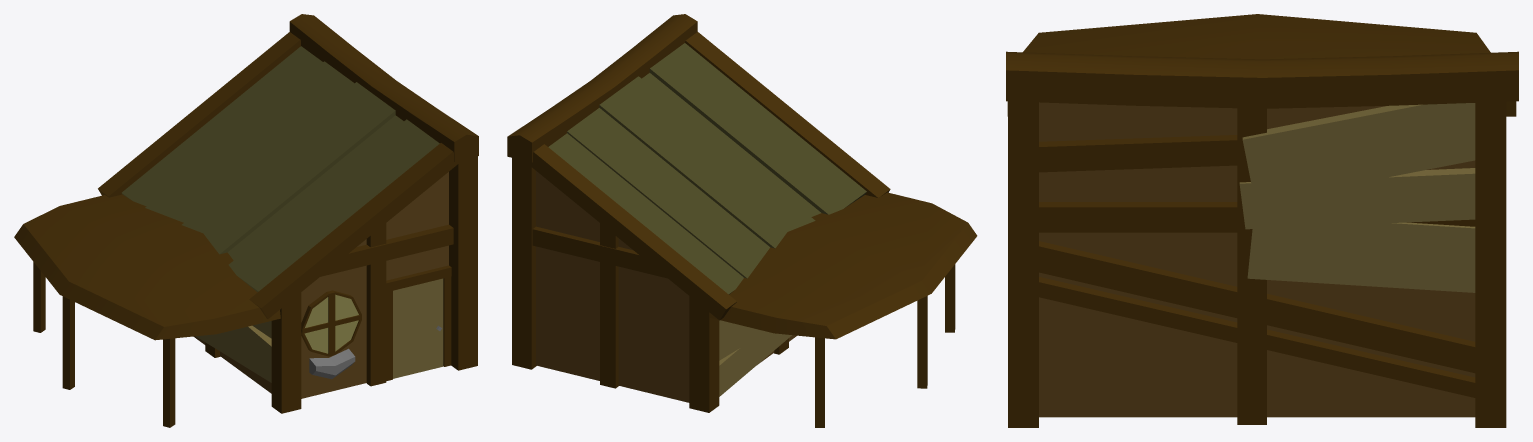
The model's file is Mesh_Farm_Medium_side.fbx.
3 views of the same model, side by side, from view 1: azimuth 30°, elevation 25°; view 2: azimuth 150°, elevation 25°; view 3: azimuth 270°, elevation 25° (orthographic). The views are drawn at different scales.
Visible parts, largest first — view 1: Farm_Medium_side; view 2: Farm_Medium_side; view 3: Farm_Medium_side.
Boxes of the visible parts, left/top/right/bottom form: Farm_Medium_side: left=14, top=14, right=478, bottom=427; Farm_Medium_side: left=507, top=14, right=977, bottom=427; Farm_Medium_side: left=1006, top=14, right=1518, bottom=427.
Bounding box in the file's own units: 857 × 568 × 724.
1 material, 1 textured.
